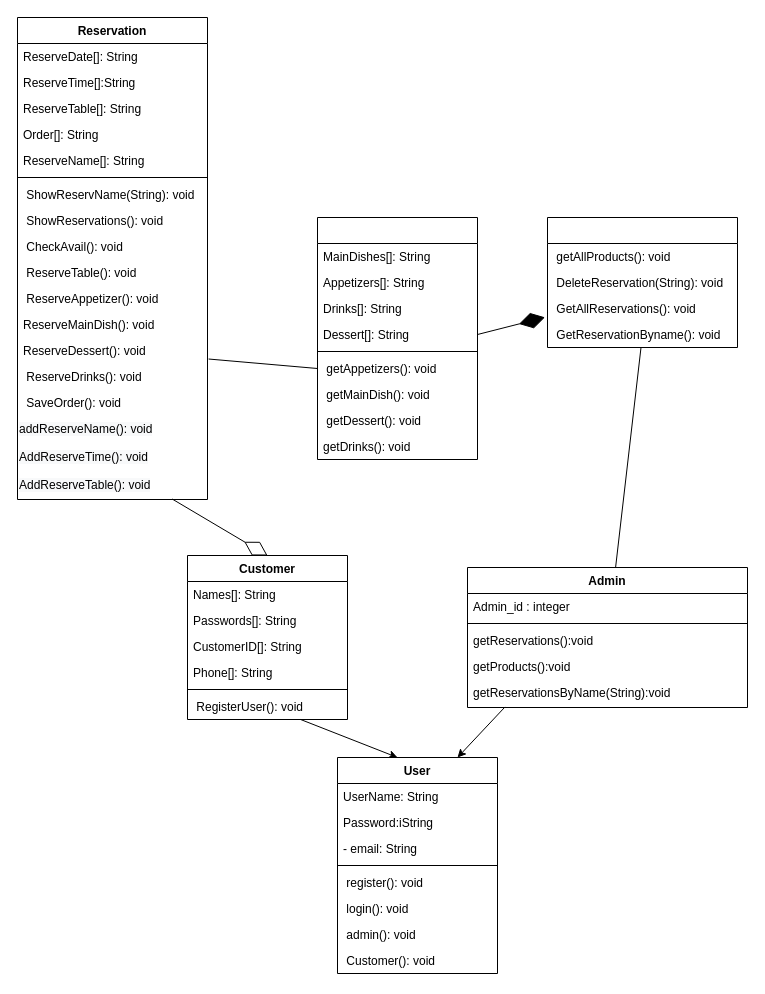
Some shapes in this 765 by 994 pixel diagram are drawn without their labels. The box of each missing label's shape, as (x1, y1, x2, y2) in pixels:
Product: (316, 216, 478, 460)
Resturant: (546, 216, 738, 348)
